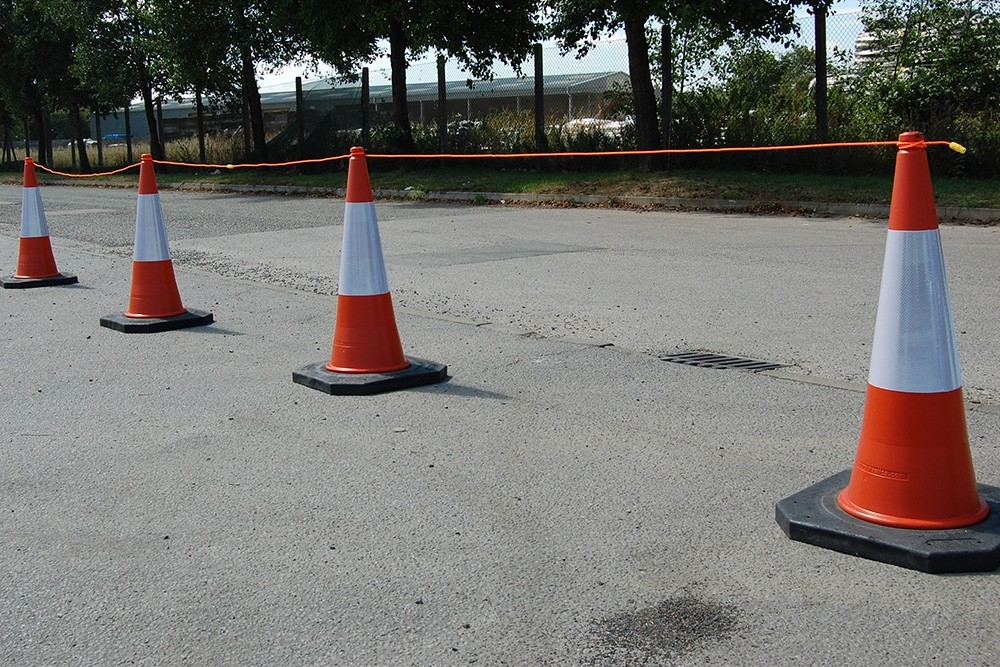cone: (775, 130, 1000, 573), (286, 148, 453, 402), (100, 148, 226, 342), (3, 159, 81, 294)
